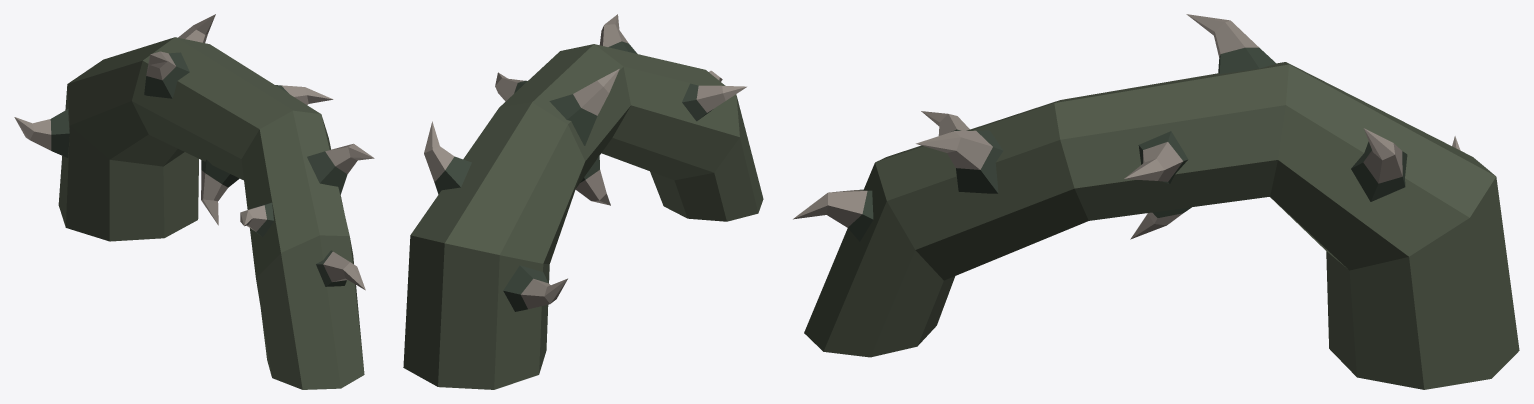
3 renders of one model, left to right at view 1: azimuth 30°, elevation 25°; view 2: azimuth 150°, elevation 25°; view 3: azimuth 270°, elevation 25°, orthographic. The views are drawn at different scales.
Parts seen in each view (by area): view 1: SM_Env_Vine_Spikes_02; view 2: SM_Env_Vine_Spikes_02; view 3: SM_Env_Vine_Spikes_02.
Part boxes in pixels (box(x1,y1,x2,y2)): SM_Env_Vine_Spikes_02: box(14, 14, 374, 389); SM_Env_Vine_Spikes_02: box(403, 14, 763, 389); SM_Env_Vine_Spikes_02: box(793, 14, 1519, 389).
Bounding box in the file's own units: 0.9709 × 1.1 × 2.39.
1 material, 1 textured.
